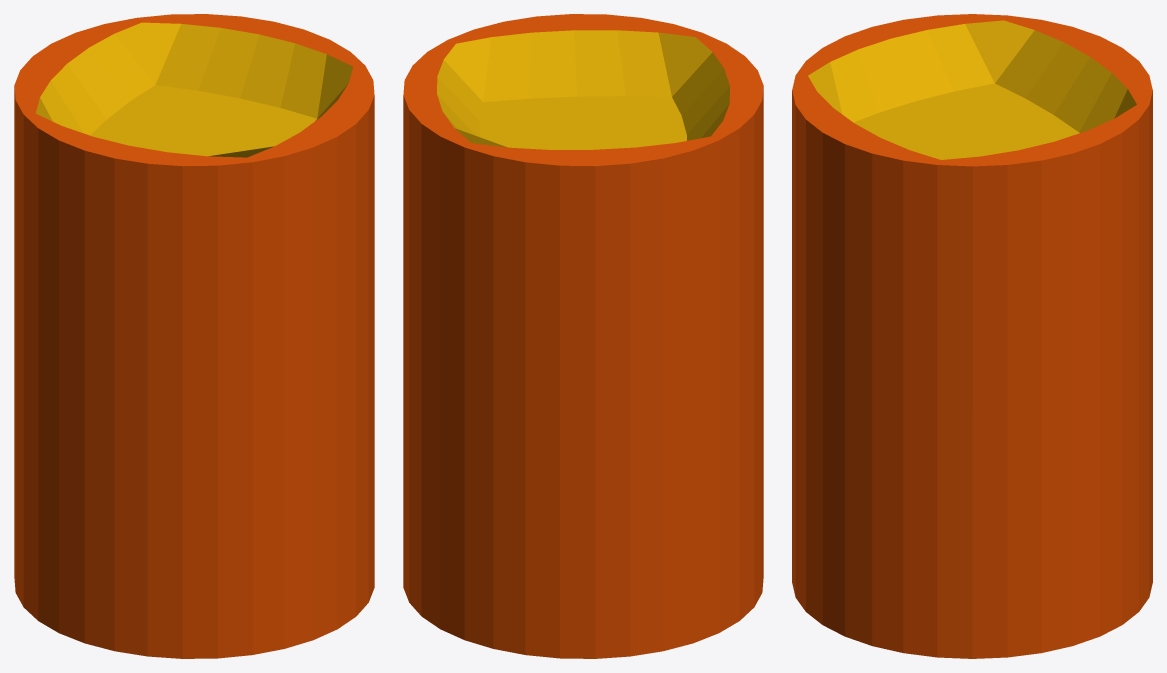
The model's file is batang kayu.fbx.
3 views of the same model, side by side, from view 1: azimuth 30°, elevation 25°; view 2: azimuth 150°, elevation 25°; view 3: azimuth 270°, elevation 25° (orthographic).
Parts seen in each view (by area): view 1: Circle.001; view 2: Circle.001; view 3: Circle.001.
Boxes of the visible parts, x1=… form: Circle.001: x1=14, y1=14, x2=374, y2=658; Circle.001: x1=403, y1=14, x2=763, y2=658; Circle.001: x1=792, y1=14, x2=1152, y2=658.
Size of the model in its own units: 200 by 301 by 200.
